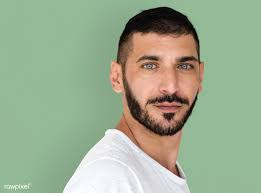middle_eastern_male: (123, 20, 207, 132)
